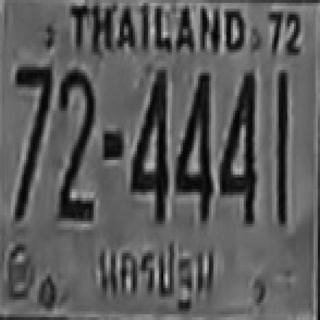N02: (56, 68, 94, 199)
N04: (128, 67, 168, 218), (218, 70, 255, 224), (174, 70, 211, 221)
N07: (13, 64, 50, 180), (13, 64, 50, 169), (13, 64, 50, 154)
P28: (90, 234, 216, 314)
